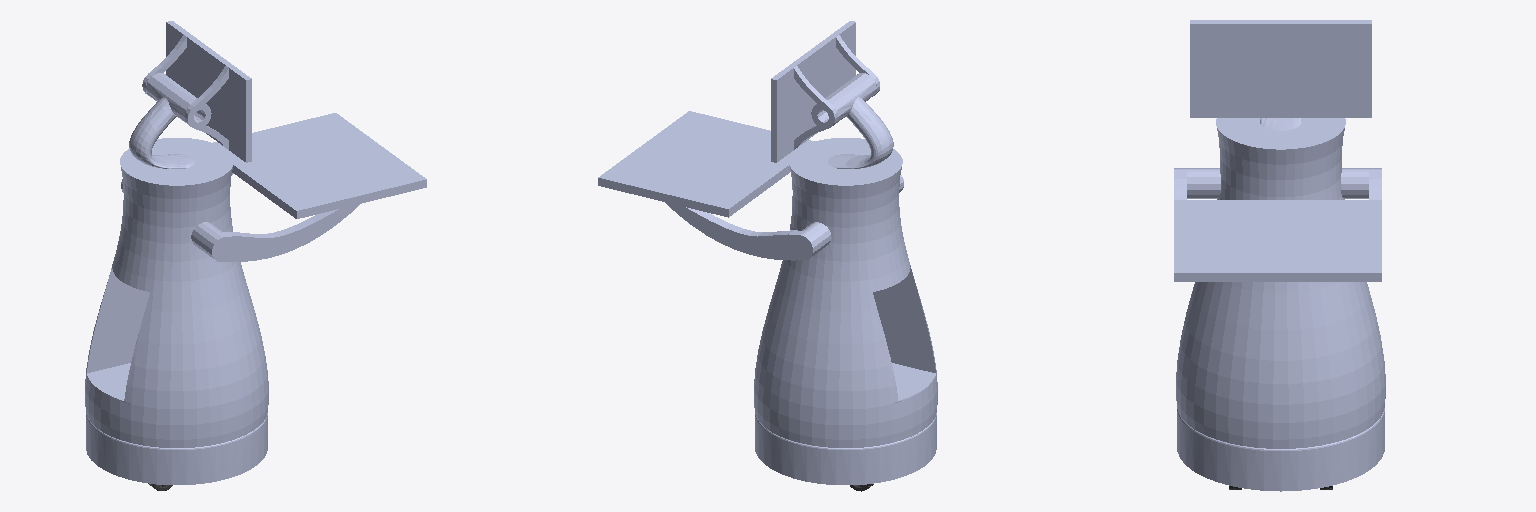
robot.urdf — trail:
<?xml version="1.0" encoding="utf-8"?>
<!-- This URDF was automatically created by SolidWorks to URDF Exporter! Originally created by [author] ([email redacted]) 
     Commit Version: 1.6.0-4-g7f85cfe  Build Version: 1.6.7995.38578
     For more information, please see http://wiki.ros.org/sw_urdf_exporter -->
<robot
  name="trail">
  <link
    name="base">
    <inertial>
      <origin
        xyz="0 -2.77555756156289E-17 0.0454049523035244"
        rpy="0 0 0" />
      <mass
        value="8.27391024838928" />
      <inertia
        ixx="0.0876077282833699"
        ixy="-3.7450840887426E-17"
        ixz="-3.49435034465483E-18"
        iyy="0.10668375718557"
        iyz="2.20546907019992E-18"
        izz="0.182027622167157" />
    </inertial>
    <visual>
      <origin
        xyz="0 0 0"
        rpy="0 0 0" />
      <geometry>
        <mesh
          filename="package://trail/meshes/base.STL" />
      </geometry>
      <material
        name="">
        <color
          rgba="0.792156862745098 0.819607843137255 0.933333333333333 1" />
      </material>
    </visual>
    <collision>
      <origin
        xyz="0 0 0"
        rpy="0 0 0" />
      <geometry>
        <mesh
          filename="package://trail/meshes/base.STL" />
      </geometry>
    </collision>
  </link>
  <link
    name="front_lf_wheel">
    <inertial>
      <origin
        xyz="-1.30704220169253E-07 0.0103100232964124 2.53481405892986E-07"
        rpy="0 0 0" />
      <mass
        value="0.0297341392937906" />
      <inertia
        ixx="1.22912881284287E-05"
        ixy="-4.09034209713339E-11"
        ixz="1.60261216176481E-10"
        iyy="2.03788335831533E-05"
        iyz="7.97625793515486E-11"
        izz="1.2291134962144E-05" />
    </inertial>
    <visual>
      <origin
        xyz="0 0 0"
        rpy="0 0 0" />
      <geometry>
        <mesh
          filename="package://trail/meshes/front_lf_wheel.STL" />
      </geometry>
      <material
        name="">
        <color
          rgba="0.298039215686275 0.298039215686275 0.298039215686275 1" />
      </material>
    </visual>
    <collision>
      <origin
        xyz="0 0 0"
        rpy="0 0 0" />
      <geometry>
        <mesh
          filename="package://trail/meshes/front_lf_wheel.STL" />
      </geometry>
    </collision>
  </link>
  <joint
    name="front_lf_wheel"
    type="continuous">
    <origin
      xyz="0.088 -0.09815 -0.014"
      rpy="0 0 0" />
    <parent
      link="base" />
    <child
      link="front_lf_wheel" />
    <axis
      xyz="0 1 0" />
  </joint>
  <link
    name="front_rt_wheel">
    <inertial>
      <origin
        xyz="-2.58248120693638E-07 0.0103100232964128 1.21013738460518E-07"
        rpy="0 0 0" />
      <mass
        value="0.0297341392937919" />
      <inertia
        ixx="1.22910761029341E-05"
        ixy="-8.10842354648194E-11"
        ixz="1.14908676486583E-10"
        iyy="2.03788335831541E-05"
        iyz="3.82165614842371E-11"
        izz="1.22913469876395E-05" />
    </inertial>
    <visual>
      <origin
        xyz="0 0 0"
        rpy="0 0 0" />
      <geometry>
        <mesh
          filename="package://trail/meshes/front_rt_wheel.STL" />
      </geometry>
      <material
        name="">
        <color
          rgba="0.298039215686275 0.298039215686275 0.298039215686275 1" />
      </material>
    </visual>
    <collision>
      <origin
        xyz="0 0 0"
        rpy="0 0 0" />
      <geometry>
        <mesh
          filename="package://trail/meshes/front_rt_wheel.STL" />
      </geometry>
    </collision>
  </link>
  <joint
    name="front_rt_wheel"
    type="continuous">
    <origin
      xyz="0.088 0.09815 -0.014"
      rpy="0 0 -3.1416" />
    <parent
      link="base" />
    <child
      link="front_rt_wheel" />
    <axis
      xyz="0 1 0" />
  </joint>
  <link
    name="rear_lf_wheel">
    <inertial>
      <origin
        xyz="-2.58248121165483E-07 0.0103100232964133 1.21013736323339E-07"
        rpy="0 0 0" />
      <mass
        value="0.0297341392937928" />
      <inertia
        ixx="1.22910761029346E-05"
        ixy="-8.10842353933175E-11"
        ixz="1.14908676236913E-10"
        iyy="2.03788335831546E-05"
        iyz="3.82165618947877E-11"
        izz="1.22913469876397E-05" />
    </inertial>
    <visual>
      <origin
        xyz="0 0 0"
        rpy="0 0 0" />
      <geometry>
        <mesh
          filename="package://trail/meshes/rear_lf_wheel.STL" />
      </geometry>
      <material
        name="">
        <color
          rgba="0.298039215686275 0.298039215686275 0.298039215686275 1" />
      </material>
    </visual>
    <collision>
      <origin
        xyz="0 0 0"
        rpy="0 0 0" />
      <geometry>
        <mesh
          filename="package://trail/meshes/rear_lf_wheel.STL" />
      </geometry>
    </collision>
  </link>
  <joint
    name="rear_lf_wheel"
    type="continuous">
    <origin
      xyz="-0.088 -0.09815 -0.014"
      rpy="0 0 0" />
    <parent
      link="base" />
    <child
      link="rear_lf_wheel" />
    <axis
      xyz="0 1 0" />
  </joint>
  <link
    name="rear_rt_wheel">
    <inertial>
      <origin
        xyz="2.58248122109173E-07 0.0103100232964118 -1.21013734213915E-07"
        rpy="0 0 0" />
      <mass
        value="0.0297341392937905" />
      <inertia
        ixx="1.22910761029333E-05"
        ixy="8.1084235173108E-11"
        ixz="1.14908675934354E-10"
        iyy="2.03788335831533E-05"
        iyz="-3.82165615622816E-11"
        izz="1.22913469876392E-05" />
    </inertial>
    <visual>
      <origin
        xyz="0 0 0"
        rpy="0 0 0" />
      <geometry>
        <mesh
          filename="package://trail/meshes/rear_rt_wheel.STL" />
      </geometry>
      <material
        name="">
        <color
          rgba="0.298039215686275 0.298039215686275 0.298039215686275 1" />
      </material>
    </visual>
    <collision>
      <origin
        xyz="0 0 0"
        rpy="0 0 0" />
      <geometry>
        <mesh
          filename="package://trail/meshes/rear_rt_wheel.STL" />
      </geometry>
    </collision>
  </link>
  <joint
    name="rear_rt_wheel"
    type="continuous">
    <origin
      xyz="-0.088 0.09815 -0.014"
      rpy="0 0 -3.1416" />
    <parent
      link="base" />
    <child
      link="rear_rt_wheel" />
    <axis
      xyz="0 1 0" />
  </joint>
  <link
    name="body">
    <inertial>
      <origin
        xyz="0.073479190241858 -0.00158257308556928 0.473034168557234"
        rpy="0 0 0" />
      <mass
        value="14.8002543697095" />
      <inertia
        ixx="0.653074016104275"
        ixy="2.33534174190076E-06"
        ixz="0.00489416204660911"
        iyy="0.602386715882378"
        iyz="-5.14066703654387E-07"
        izz="0.310799528265861" />
    </inertial>
    <visual>
      <origin
        xyz="0 0 0"
        rpy="0 0 0" />
      <geometry>
        <mesh
          filename="package://trail/meshes/body.STL" />
      </geometry>
      <material
        name="">
        <color
          rgba="0.792156862745098 0.819607843137255 0.933333333333333 1" />
      </material>
    </visual>
    <collision>
      <origin
        xyz="0 0 0"
        rpy="0 0 0" />
      <geometry>
        <mesh
          filename="package://trail/meshes/body.STL" />
      </geometry>
    </collision>
  </link>
  <joint
    name="body"
    type="fixed">
    <origin
      xyz="0 0 0"
      rpy="0 0 0" />
    <parent
      link="base" />
    <child
      link="body" />
    <axis
      xyz="0 0 0" />
  </joint>
</robot>

--- Render facts (derived) ---
3 views of the same robot in one strip: view 1: azimuth 30°, elevation 25°; view 2: azimuth 150°, elevation 25°; view 3: azimuth 270°, elevation 25° (orthographic).
Robot: trail — 6 links, 5 joints (4 continuous, 1 fixed); root link base; default pose: all joints at 0.
Visible links, largest first — view 1: body, base; view 2: body, base; view 3: body, base.
Link boxes in pixels (left/top/right/bottom): body: left=85, top=21, right=426, bottom=447; base: left=86, top=413, right=267, bottom=484; body: left=598, top=21, right=937, bottom=447; base: left=755, top=413, right=936, bottom=484; body: left=1174, top=20, right=1385, bottom=448; base: left=1177, top=408, right=1384, bottom=491.
Bounding box of the posed robot: 0.7159 × 0.4069 × 0.9866 m (x, y, z).
6 mesh visuals loaded from 6 distinct referenced files (6 binary STL).